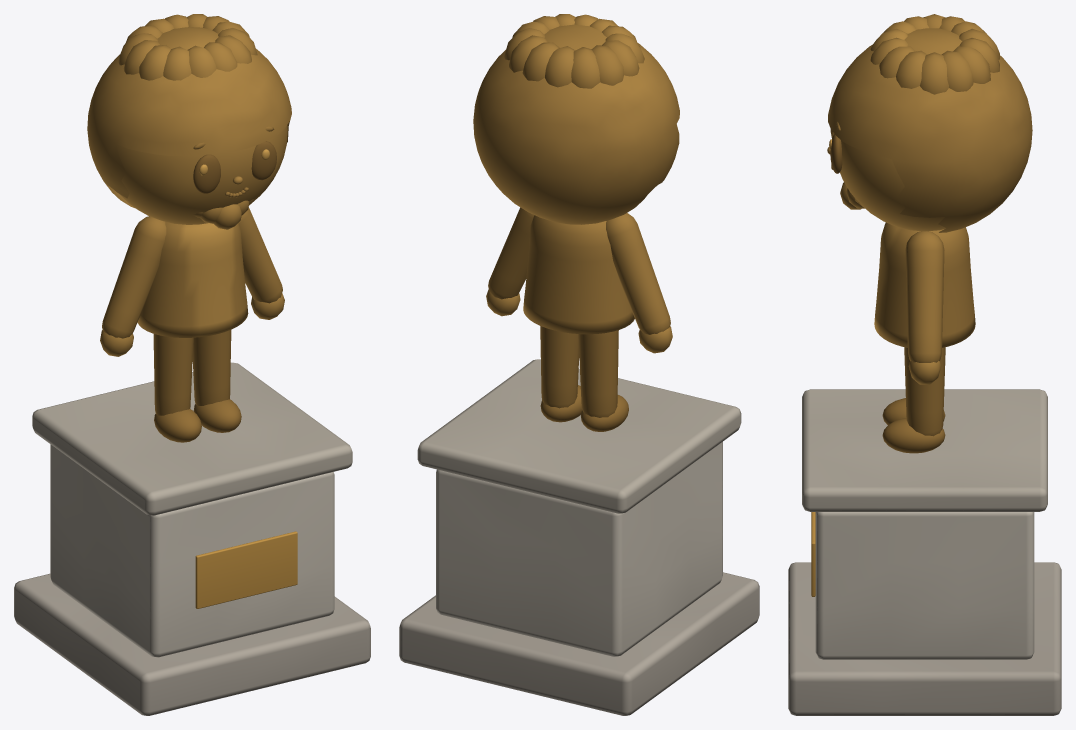
File: statue_david.glb
The picture shows the model from 3 angles, left to right: view 1: azimuth 30°, elevation 25°; view 2: azimuth 150°, elevation 25°; view 3: azimuth 270°, elevation 25°; orthographic projection. The views are drawn at different scales.
Visible parts, largest first — view 1: statue_david_main, statue_hair, statue_body, statue_head, statue_armL, statue_legL, statue_legR, statue_armR, statue_face, statue_beard; view 2: statue_david_main, statue_hair, statue_body, statue_armL, statue_legL, statue_legR, statue_armR; view 3: statue_david_main, statue_hair, statue_body, statue_armR, statue_head, statue_legR, statue_face, statue_legL.
Boxes of the visible parts, box(x1,y1,x2,y2) form: statue_david_main: box(14, 362, 370, 715); statue_hair: box(87, 14, 291, 208); statue_body: box(137, 221, 248, 337); statue_head: box(116, 125, 287, 224); statue_armL: box(100, 216, 166, 356); statue_legL: box(153, 334, 201, 442); statue_legR: box(192, 330, 241, 432); statue_armR: box(238, 207, 284, 319); statue_face: box(193, 126, 276, 197); statue_beard: box(192, 199, 254, 229); statue_david_main: box(399, 359, 759, 715); statue_hair: box(473, 14, 679, 224); statue_body: box(523, 215, 634, 334); statue_armL: box(606, 213, 672, 353); statue_legL: box(578, 330, 628, 431); statue_legR: box(540, 326, 581, 422); statue_armR: box(486, 207, 534, 316); statue_david_main: box(788, 389, 1061, 715); statue_hair: box(828, 14, 1032, 232); statue_body: box(874, 222, 975, 347); statue_armR: box(905, 231, 944, 384); statue_head: box(832, 132, 945, 231); statue_legR: box(882, 347, 945, 453); statue_face: box(827, 121, 842, 173); statue_legL: box(882, 398, 945, 424).
Size of the model in its own units: 1 by 2.53 by 1.
